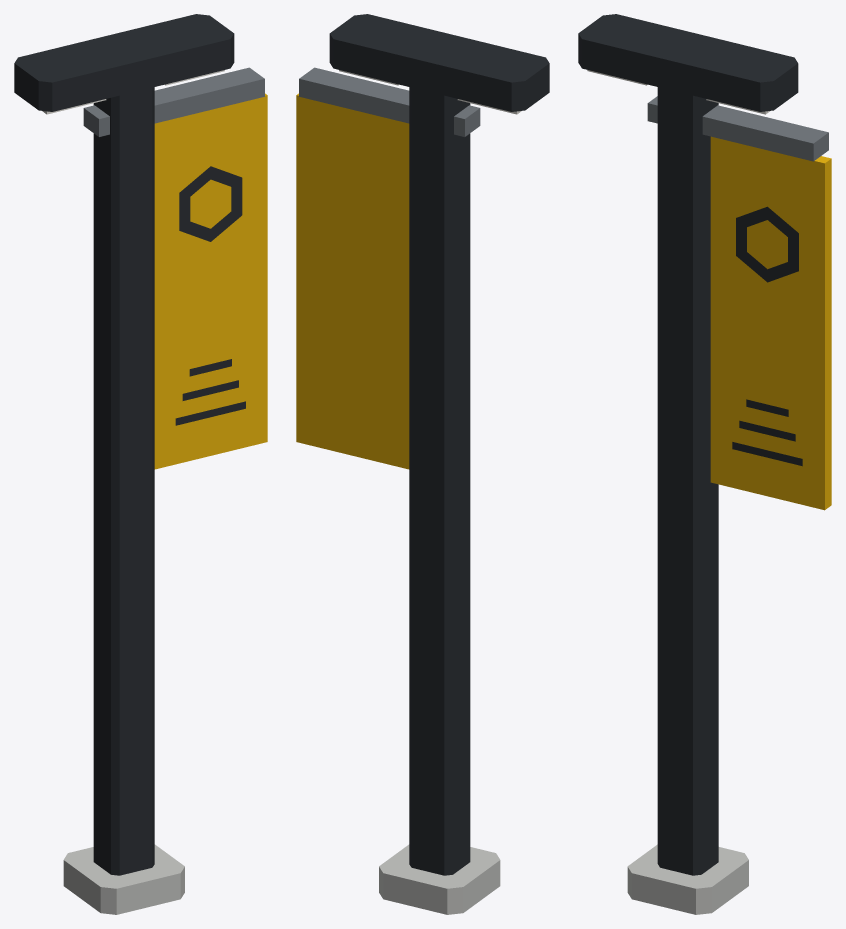
Rendered from PROP_STREETLIGHT_02.glb.
The picture shows the model from 3 angles, left to right: view 1: azimuth 30°, elevation 25°; view 2: azimuth 150°, elevation 25°; view 3: azimuth 330°, elevation 25°; orthographic projection.
Visible parts, largest first — view 1: CIVRUM_GAME_PROP_STREETLIGHT_02; view 2: CIVRUM_GAME_PROP_STREETLIGHT_02; view 3: CIVRUM_GAME_PROP_STREETLIGHT_02.
Boxes of the visible parts, box(x1,y1,x2,y2) form: CIVRUM_GAME_PROP_STREETLIGHT_02: box(14, 14, 267, 914); CIVRUM_GAME_PROP_STREETLIGHT_02: box(296, 14, 549, 914); CIVRUM_GAME_PROP_STREETLIGHT_02: box(578, 14, 831, 914).
Size of the model in its own units: 1.52 by 5.14 by 0.54.
